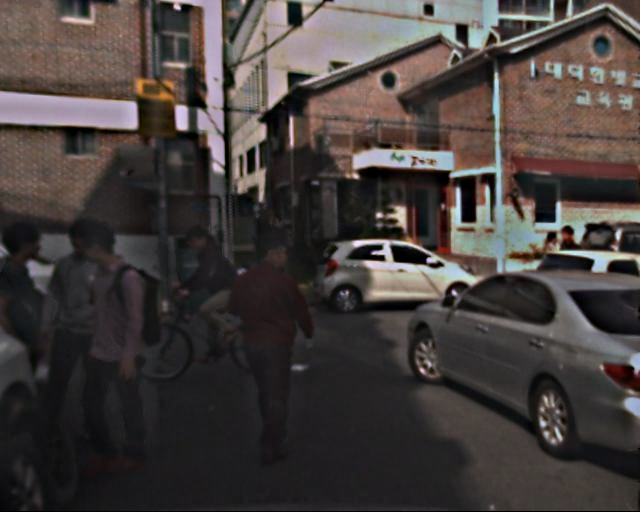person: (60, 223, 175, 473), (222, 233, 316, 466), (35, 229, 135, 428), (179, 224, 237, 350), (552, 225, 595, 315), (533, 227, 570, 318), (262, 211, 299, 288)
